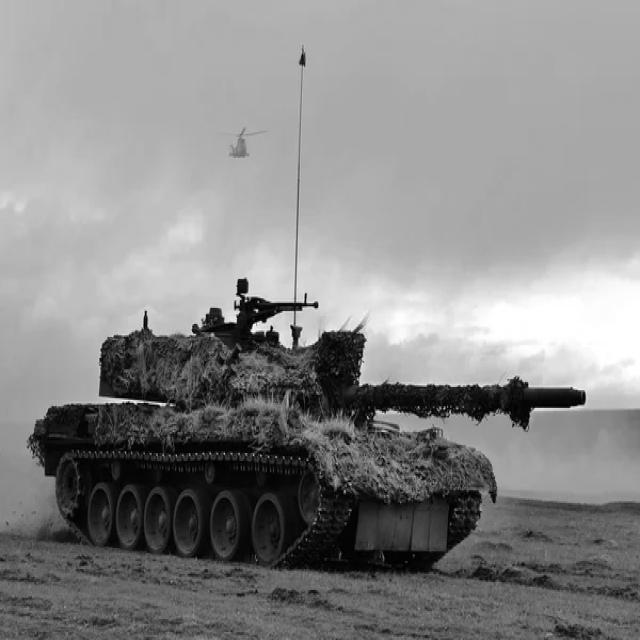Tank: (21, 285, 598, 570)
